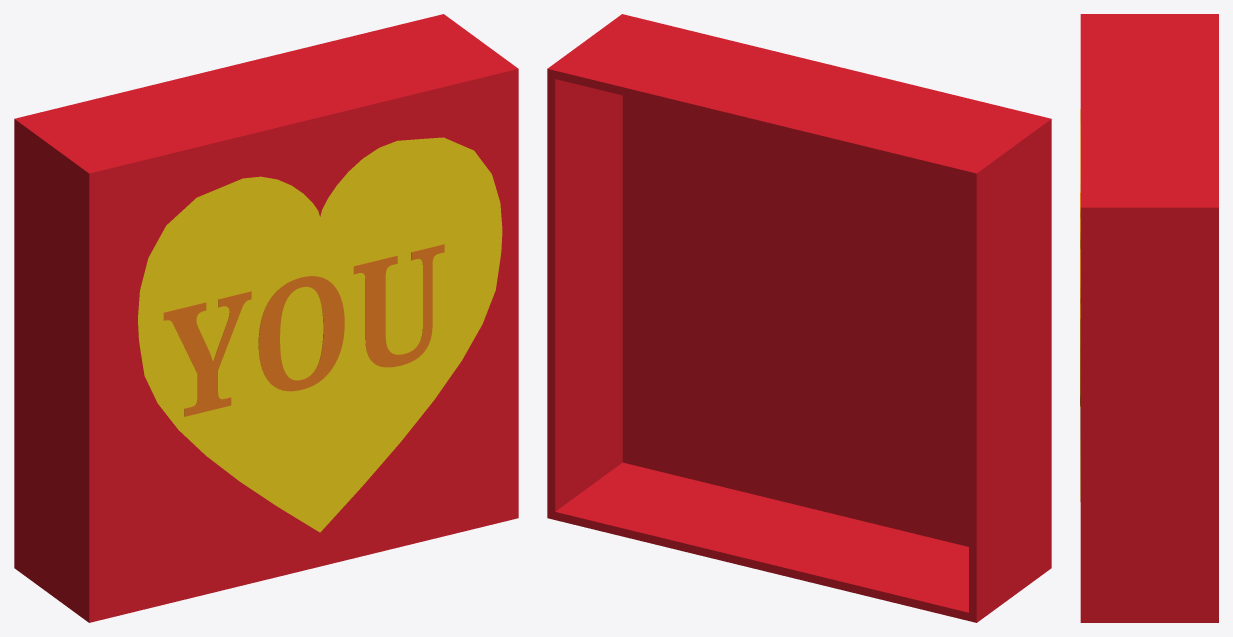
The model's file is tinker.obj.
3 views of the same model, side by side, from view 1: azimuth 30°, elevation 25°; view 2: azimuth 150°, elevation 25°; view 3: azimuth 270°, elevation 25° (orthographic). The views are drawn at different scales.
Parts seen in each view (by area): view 1: group_0_15277357, group_0_16768282, group_0_16089887; view 2: group_0_15277357; view 3: group_0_15277357, group_0_16768282, group_0_16089887.
Boxes of the visible parts, <box> form: group_0_15277357: <box>14,14,518,622</box>; group_0_16768282: <box>138,137,502,532</box>; group_0_16089887: <box>163,244,444,416</box>; group_0_15277357: <box>547,14,1051,622</box>; group_0_15277357: <box>1080,14,1218,622</box>; group_0_16768282: <box>1080,109,1080,501</box>; group_0_16089887: <box>1080,193,1080,406</box>.
Bounding box in the file's own units: 53 × 53 × 16.05.
